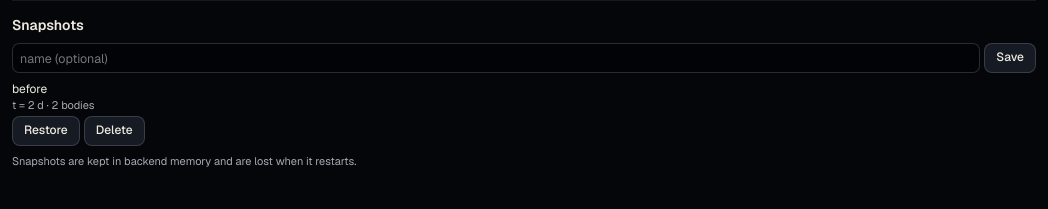
it: SnapshotPanel › shows the backend's refusal and does not claim success
This screenshot has width=1048, height=209.
Expected: the list item with test id "snapshot-item" is shown, x1=12 y1=81 x2=145 y2=146
Click the button "Restore" at (46, 131), box x1=12 y1=116 x2=80 y2=146
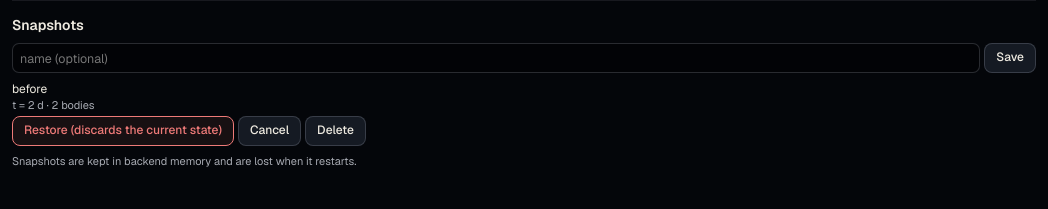
Click the button "Restore (discards the current state)" at (123, 131), box x1=12 y1=116 x2=234 y2=146
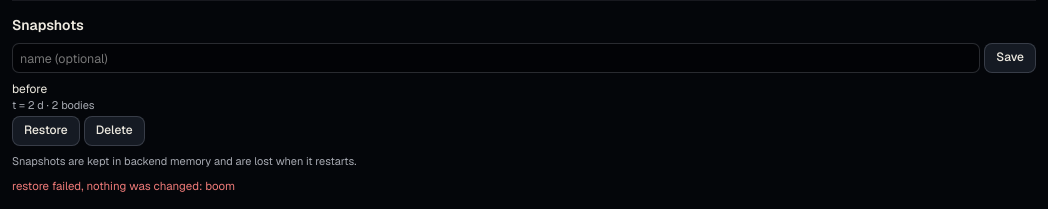
Expected: the message shows "nothing was changed: boom", x1=12 y1=178 x2=235 y2=193
